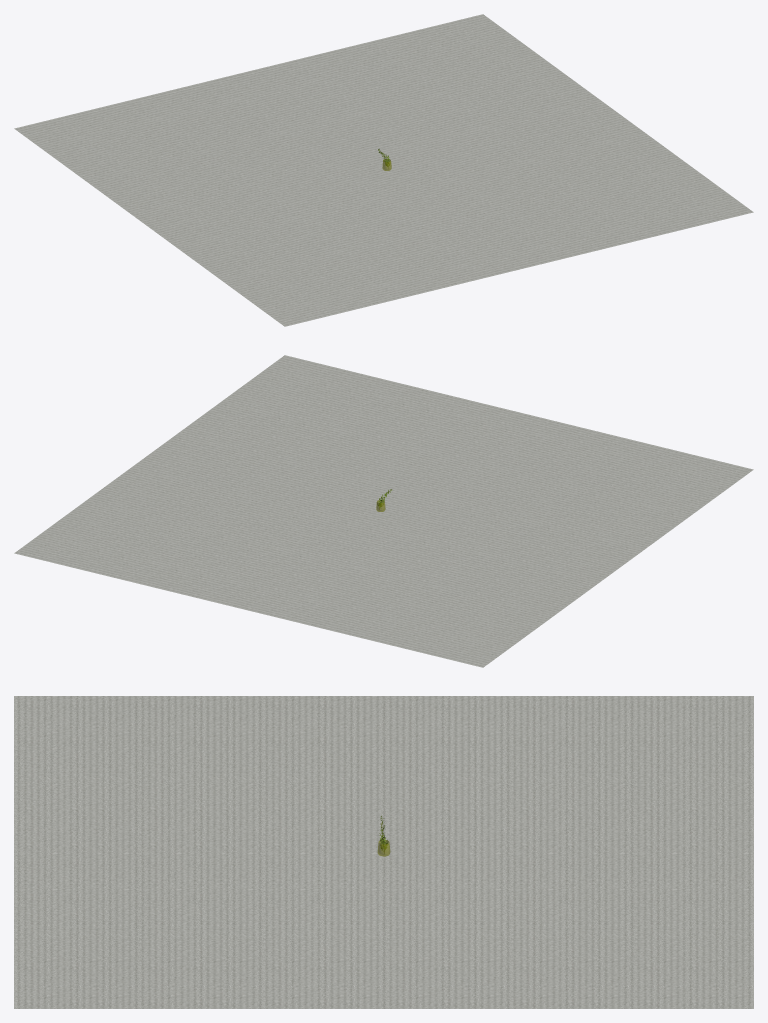
The model's file is Vase7.glb.
The picture shows the model from 3 angles, top to bottom: view 1: azimuth 30°, elevation 25°; view 2: azimuth 150°, elevation 25°; view 3: azimuth 270°, elevation 25°; orthographic projection. The views are drawn at different scales.
Visible parts, largest first — view 1: e894dadb-f538-4c3a-9915-2607b3022ed10; view 2: e894dadb-f538-4c3a-9915-2607b3022ed10; view 3: e894dadb-f538-4c3a-9915-2607b3022ed10.
Part boxes in pixels (box(x1,y1,x2,y2)): e894dadb-f538-4c3a-9915-2607b3022ed10: box(14, 14, 753, 326); e894dadb-f538-4c3a-9915-2607b3022ed10: box(14, 355, 753, 667); e894dadb-f538-4c3a-9915-2607b3022ed10: box(14, 696, 753, 1008).
Size of the model in its own units: 4 by 0.1949 by 4.
Materials: 4 (3 with a texture image).
